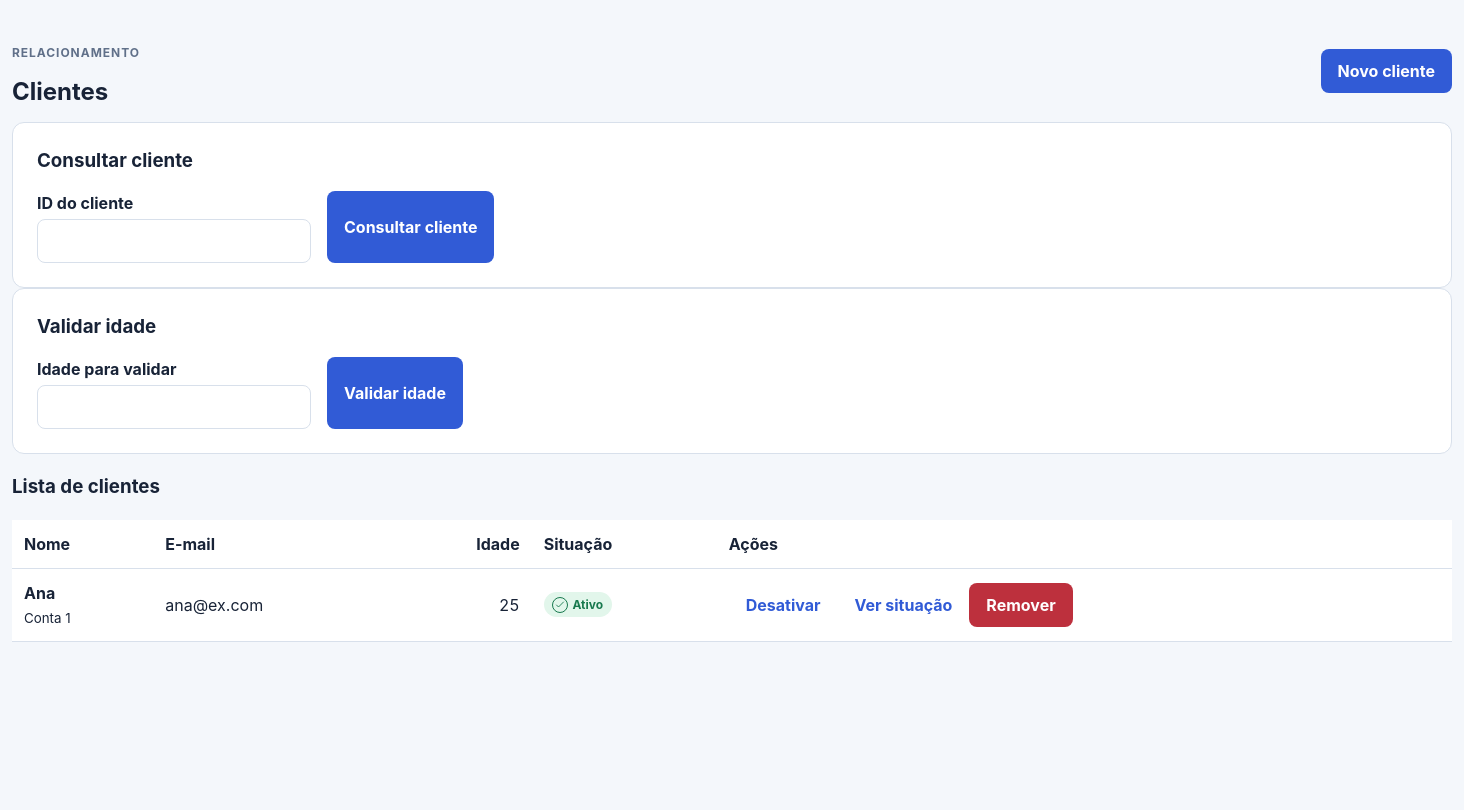
Test: componentes de clientes › consulta cliente existente e exibe nome e situação
The width and height of the screenshot is (1464, 810).
In the number field labelled "ID do cliente": (174, 241) 37,219 -> 311,263, type "2"
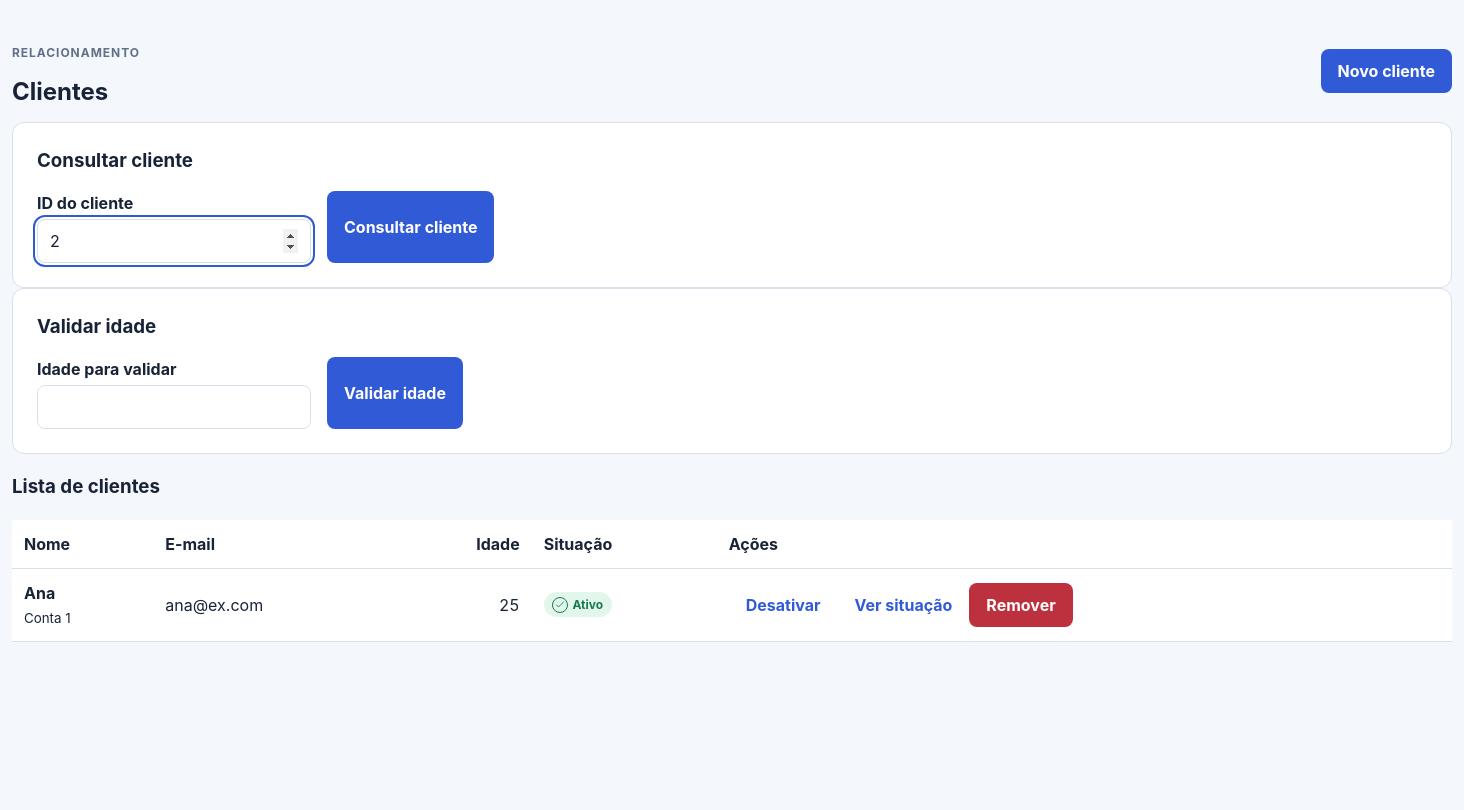
Click the button "Consultar cliente": click(411, 227) 327,191 -> 494,263
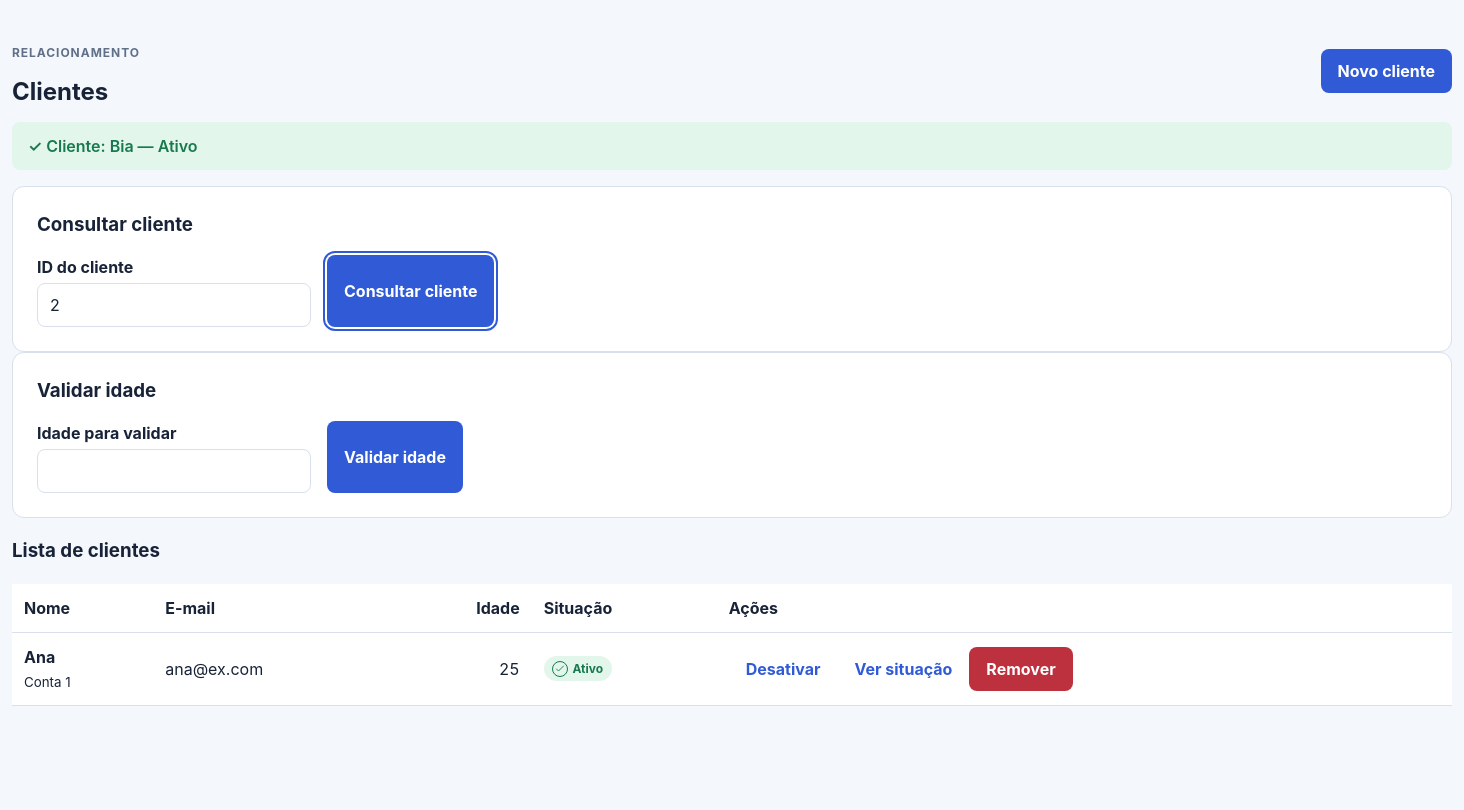
Check: the message shows "Bia — Ativo", box 46,136 -> 198,156
